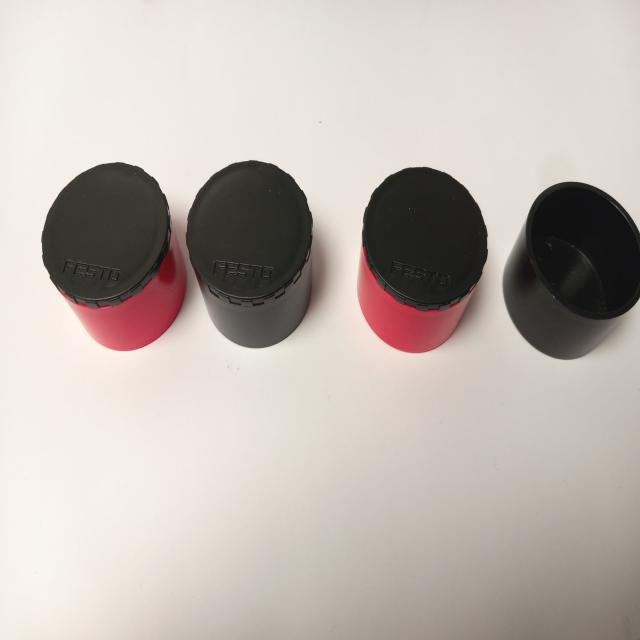NoLid: (514, 168, 638, 368)
Workpiece: (32, 145, 190, 370), (348, 145, 495, 360), (191, 147, 328, 366)
